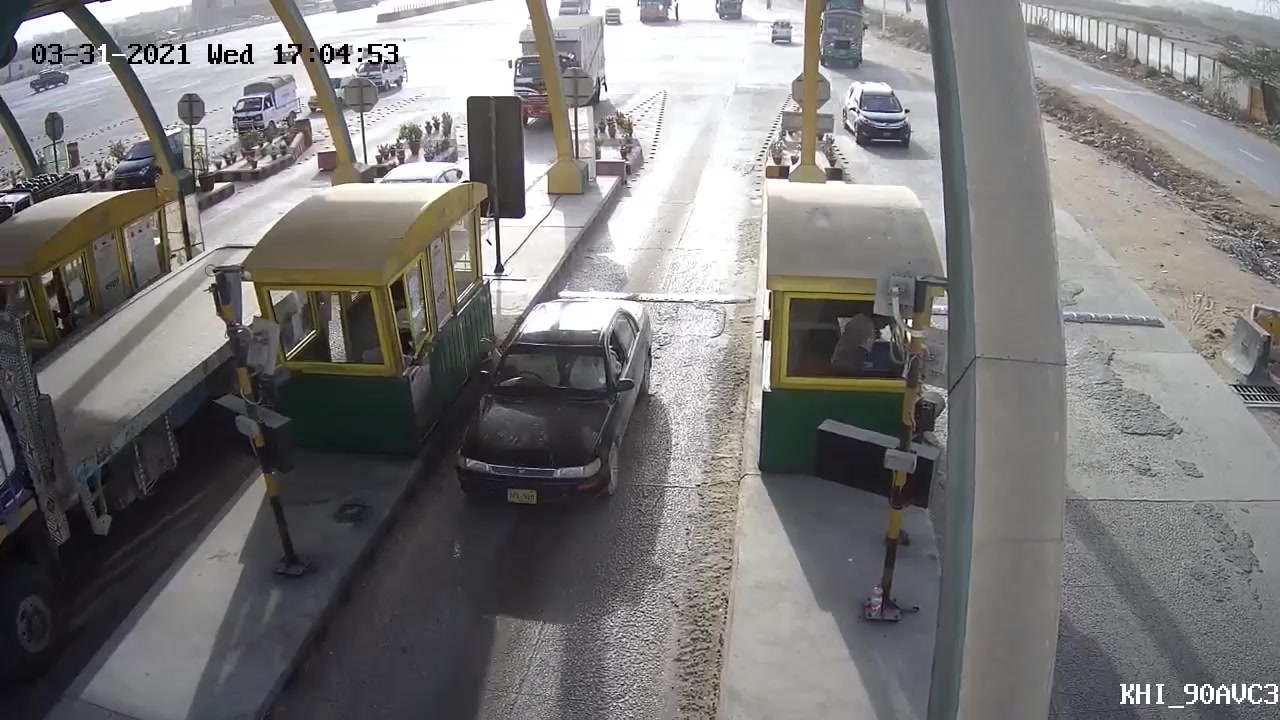F1: (440, 292, 663, 521)
